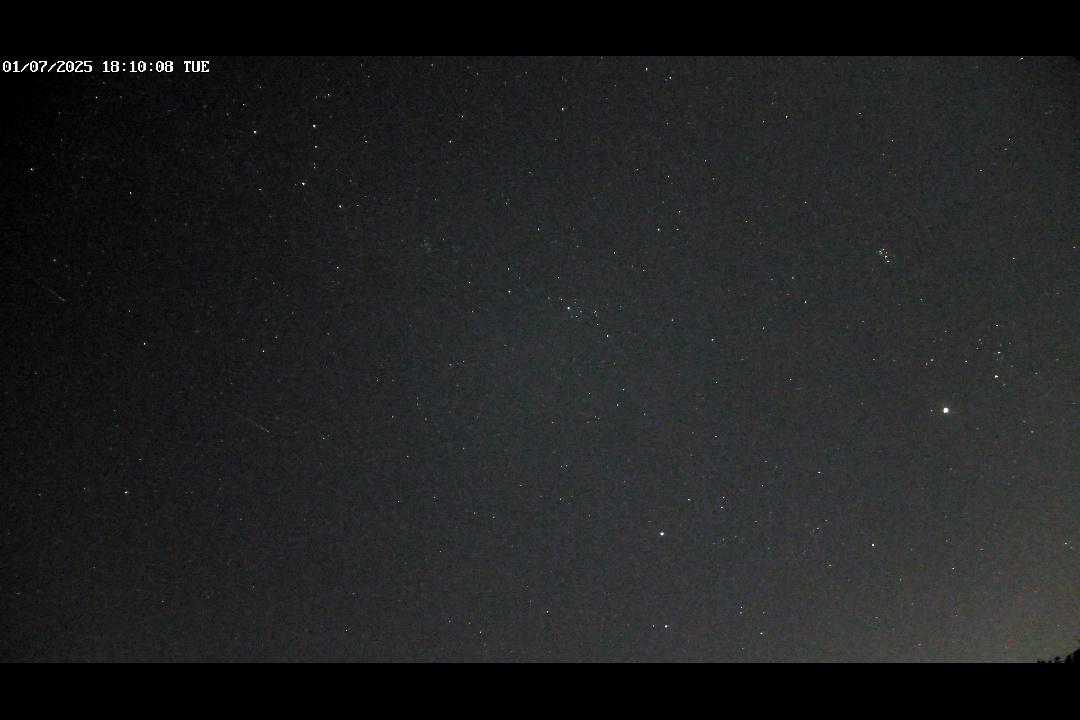Plane: (35, 276, 68, 308), (238, 412, 274, 438)
